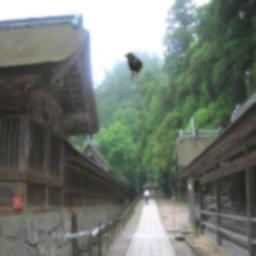Crow: (125, 52, 144, 81)
